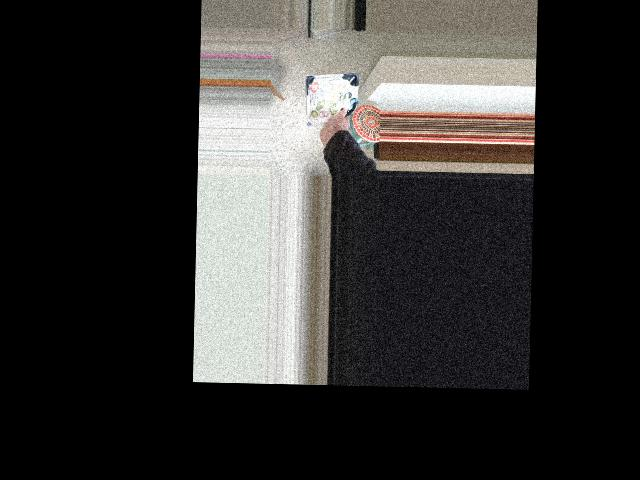cheese: (297, 74, 365, 143)
